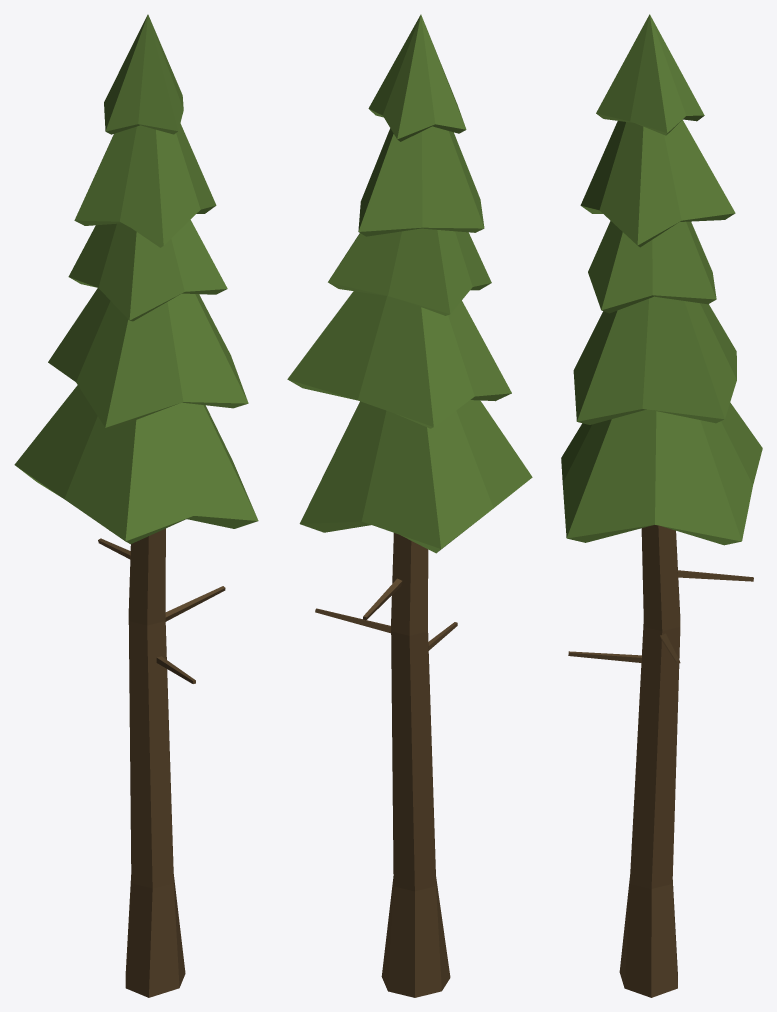
The model's file is Tree_28.fbx.
3 views of the same model, side by side, from view 1: azimuth 30°, elevation 25°; view 2: azimuth 150°, elevation 25°; view 3: azimuth 270°, elevation 25° (orthographic).
Parts seen in each view (by area): view 1: Tree_28; view 2: Tree_28; view 3: Tree_28.
Part boxes in pixels (x1,y1,x2,y2): Tree_28: (14, 14, 258, 997); Tree_28: (287, 14, 532, 997); Tree_28: (561, 14, 762, 997).
Bounding box in the file's own units: 101 × 540 × 102.
